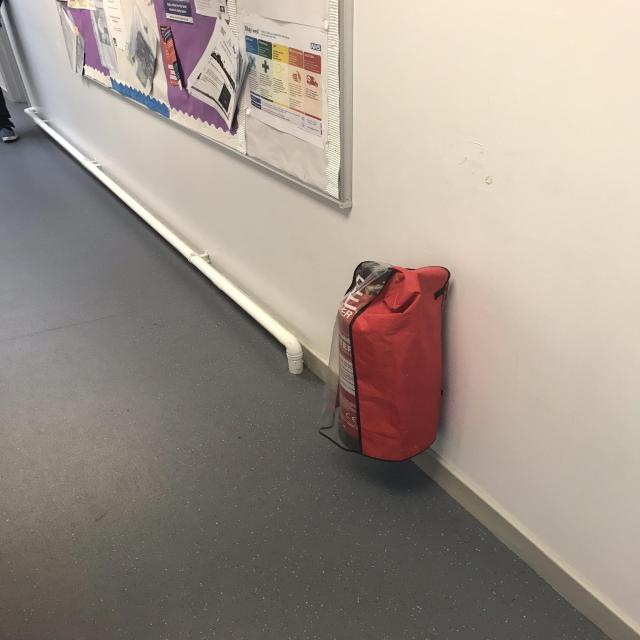Fire-Extinguisher: (324, 255, 456, 469)
